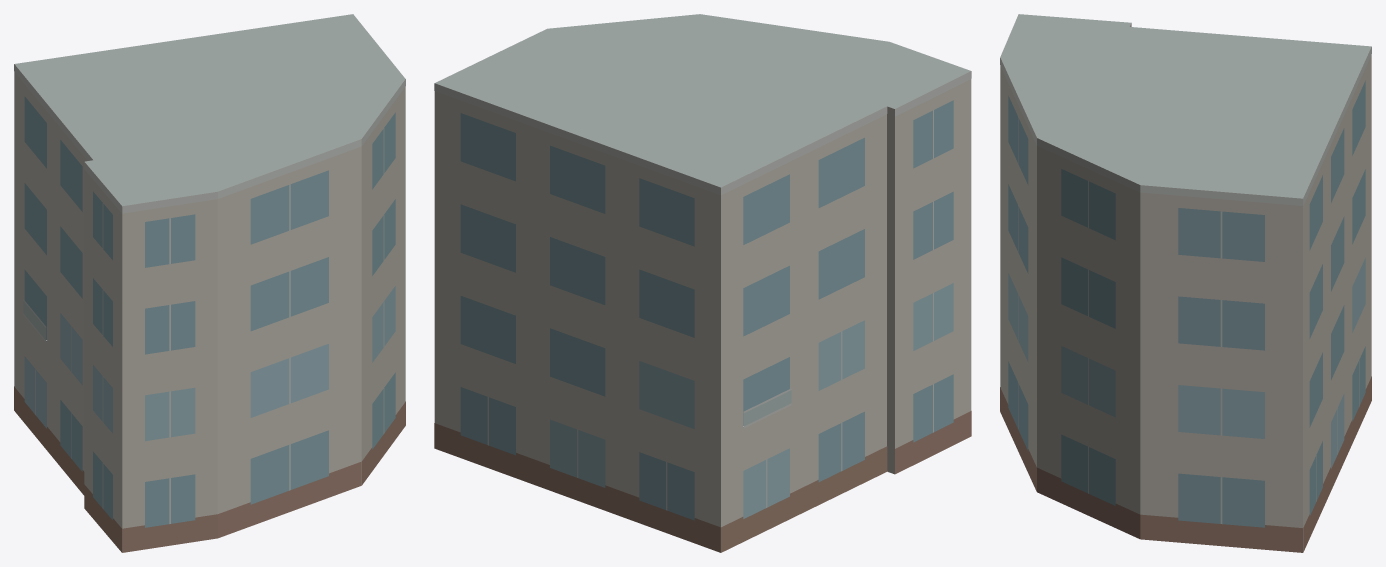
File: survey-upis-32701792.glb
3 views of the same model, side by side, from view 1: azimuth 30°, elevation 25°; view 2: azimuth 150°, elevation 25°; view 3: azimuth 270°, elevation 25° (orthographic). The views are drawn at different scales.
Visible parts, largest first — view 1: survey-upis-32701792.tmp; view 2: survey-upis-32701792.tmp; view 3: survey-upis-32701792.tmp.
Part boxes in pixels (x1,y1,x2,y2): survey-upis-32701792.tmp: [14, 14, 405, 552]; survey-upis-32701792.tmp: [434, 14, 971, 552]; survey-upis-32701792.tmp: [1000, 14, 1371, 552].
Size of the model in its own units: 12.86 by 11.5 by 10.94.
